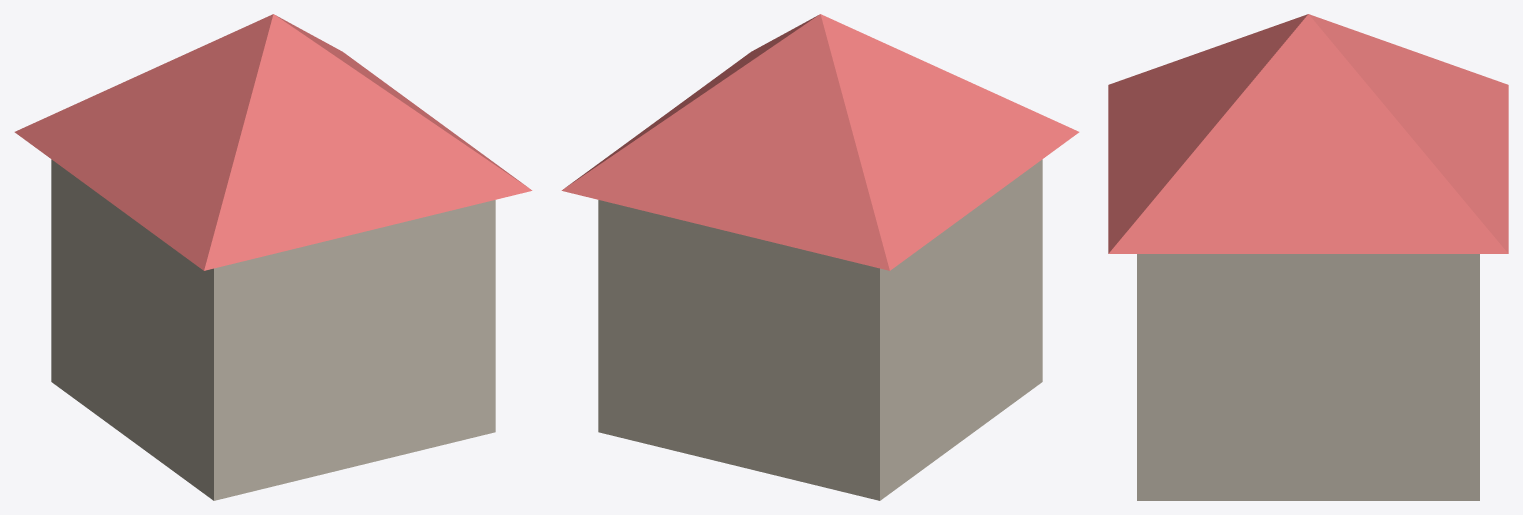
File: house.glb
The picture shows the model from 3 angles, left to right: view 1: azimuth 30°, elevation 25°; view 2: azimuth 150°, elevation 25°; view 3: azimuth 270°, elevation 25°; orthographic projection. The views are drawn at different scales.
Visible parts, largest first — view 1: House; view 2: House; view 3: House.
Boxes of the visible parts, x1,y1,x2,y2 form: House: (14,14,532,500); House: (561,14,1079,500); House: (1108,14,1508,500).
Bounding box in the file's own units: 1.4 × 1.6 × 1.4.
